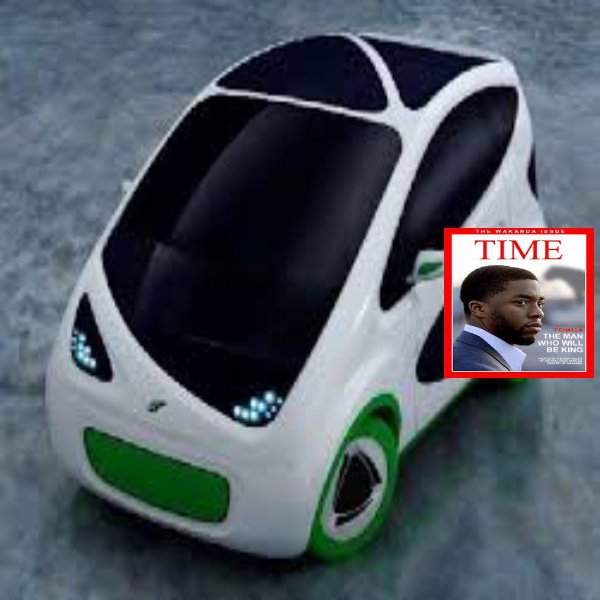time_cover: (442, 220, 598, 381)
